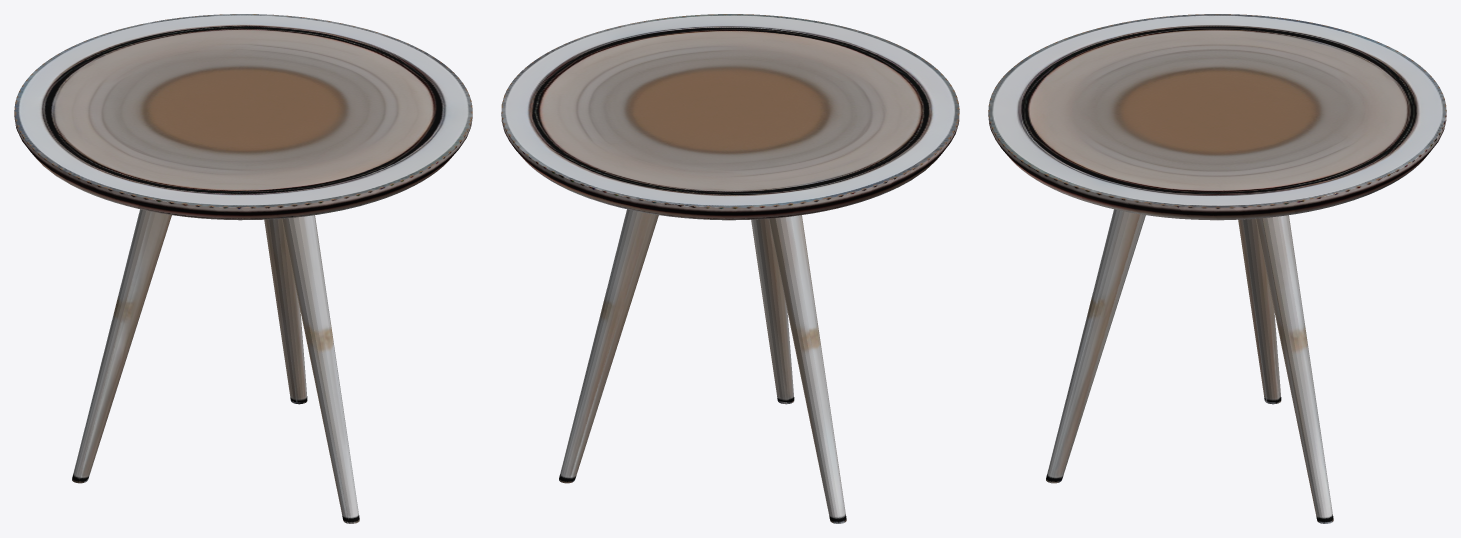
File: edited_mesh.glb
The picture shows the model from 3 angles, left to right: view 1: azimuth 30°, elevation 25°; view 2: azimuth 150°, elevation 25°; view 3: azimuth 270°, elevation 25°; orthographic projection.
Visible parts, largest first — view 1: normalized_model.obj; view 2: normalized_model.obj; view 3: normalized_model.obj.
Part boxes in pixels (left/top/right/bottom): normalized_model.obj: left=14, top=14, right=472, bottom=523; normalized_model.obj: left=501, top=14, right=959, bottom=523; normalized_model.obj: left=988, top=14, right=1446, bottom=523.
Bounding box in the file's own units: 1.47 × 1.26 × 1.47.
Materials: 1 (1 with a texture image).
